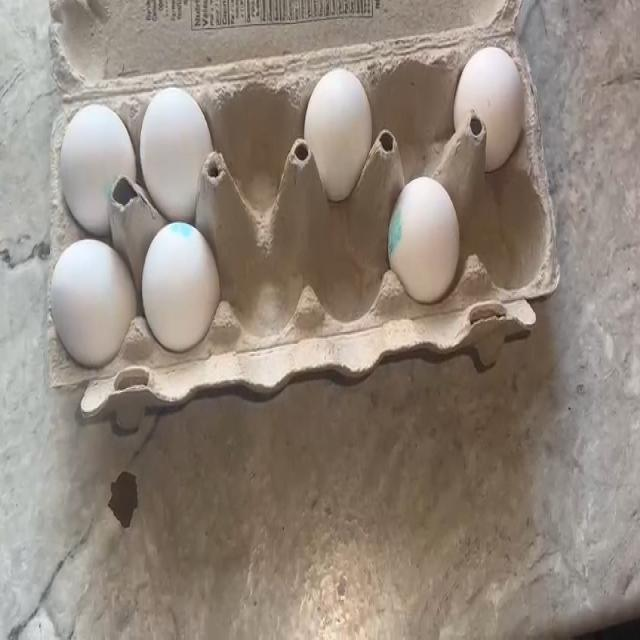Egg: (146, 230, 222, 347), (303, 64, 373, 187), (394, 183, 464, 304), (142, 92, 209, 208), (50, 108, 128, 206), (63, 242, 124, 353), (451, 34, 516, 134)
